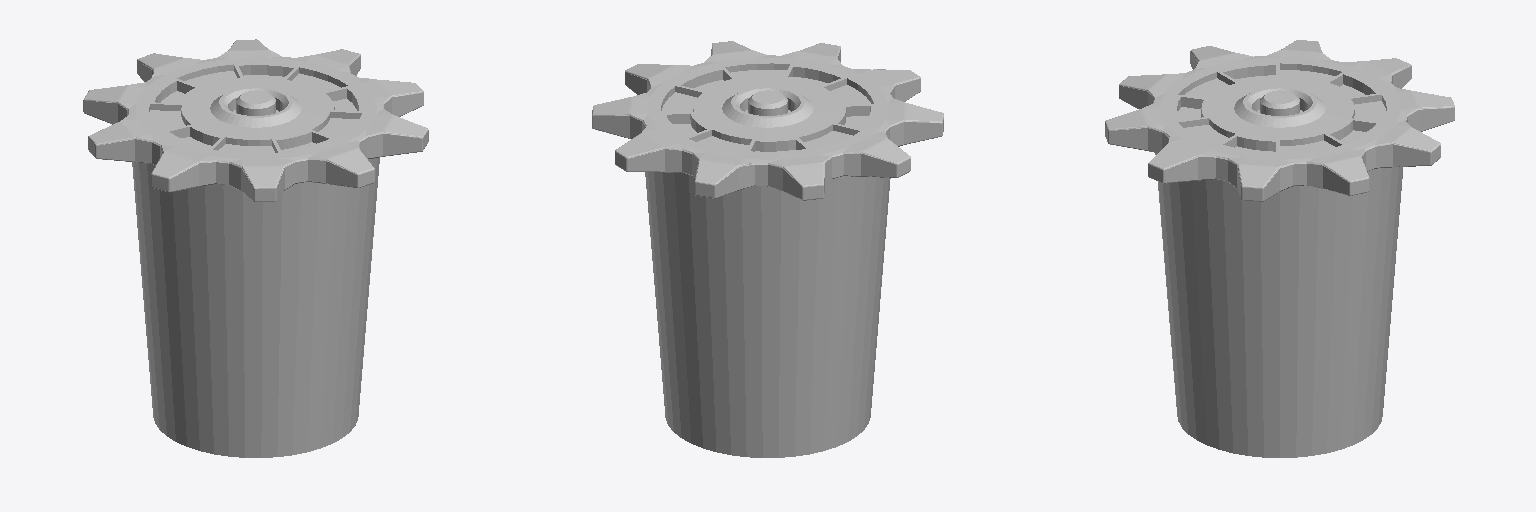
The model's file is bin.obj.
The picture shows the model from 3 angles: view 1: azimuth 30°, elevation 25°; view 2: azimuth 150°, elevation 25°; view 3: azimuth 270°, elevation 25°; orthographic projection.
Parts seen in each view (by area): view 1: Dustbin; view 2: Dustbin; view 3: Dustbin.
Part boxes in pixels (x1,y1,x2,y2): Dustbin: (83,39,428,457); Dustbin: (592,41,943,457); Dustbin: (1105,40,1454,457).
Size of the model in its own units: 6.29 by 6.29 by 6.29.